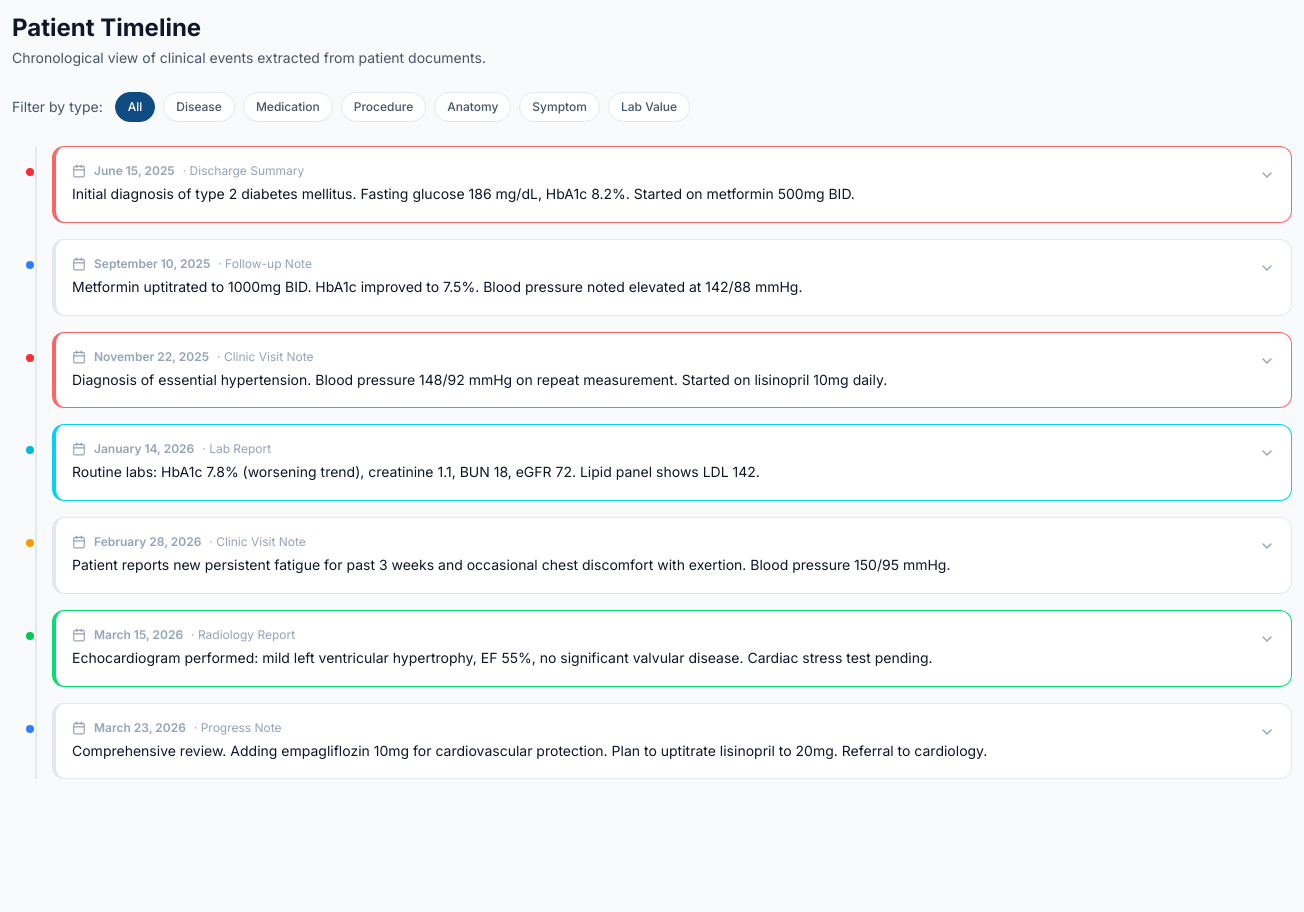
Test: Timeline › shows empty state when no events match filter
The image size is (1304, 912).
Click the button "Anatomy". click: (473, 107)
box: [434, 92, 511, 122]
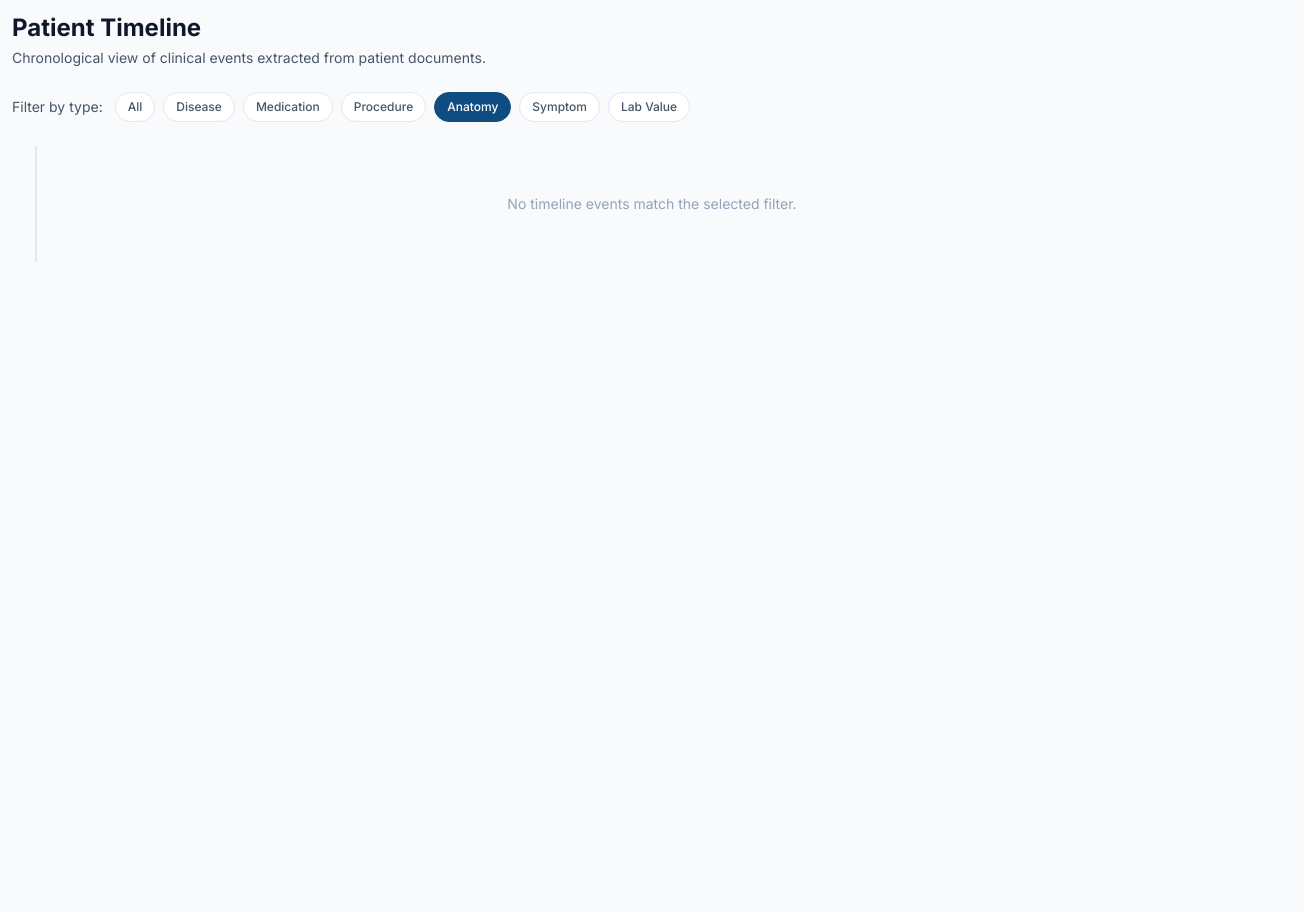
Expected: the text "No timeline events match the selected filter." is shown, [507, 195, 797, 212]
